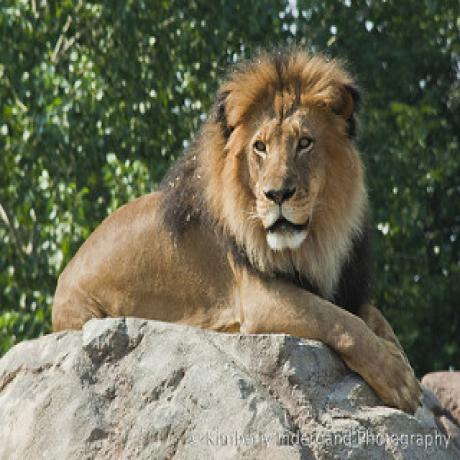Lion: (54, 44, 429, 416)
